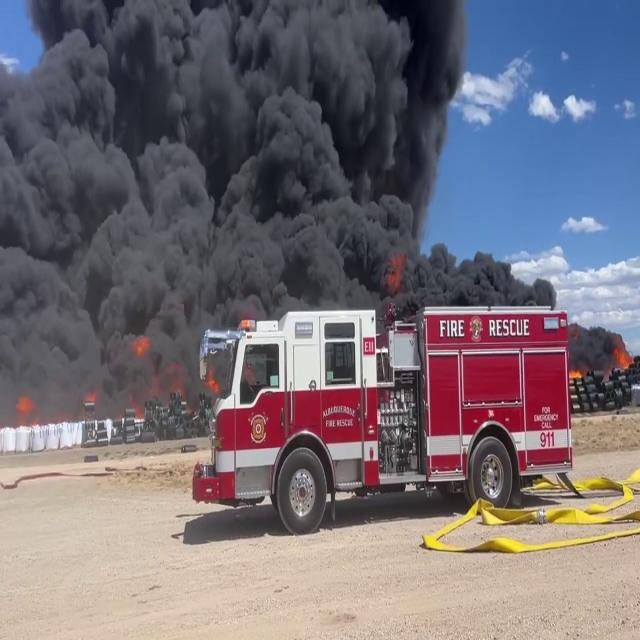Fire: (609, 339, 635, 376)
Smoke: (0, 0, 469, 394)
